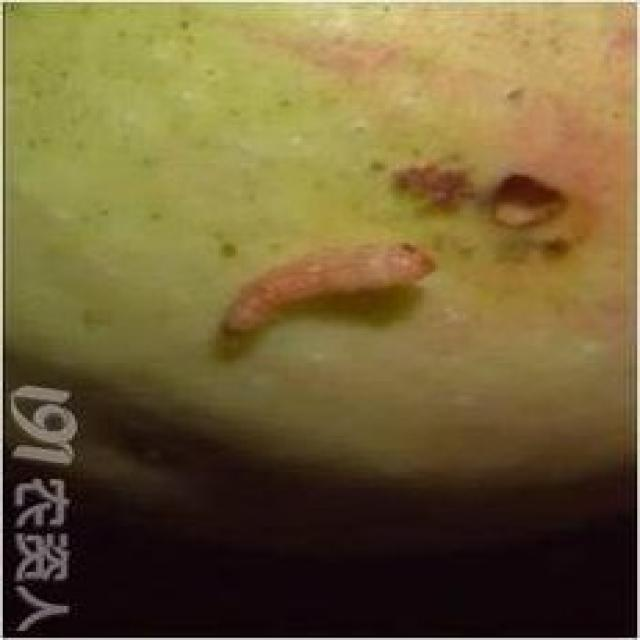peach borer: (228, 236, 450, 338)
